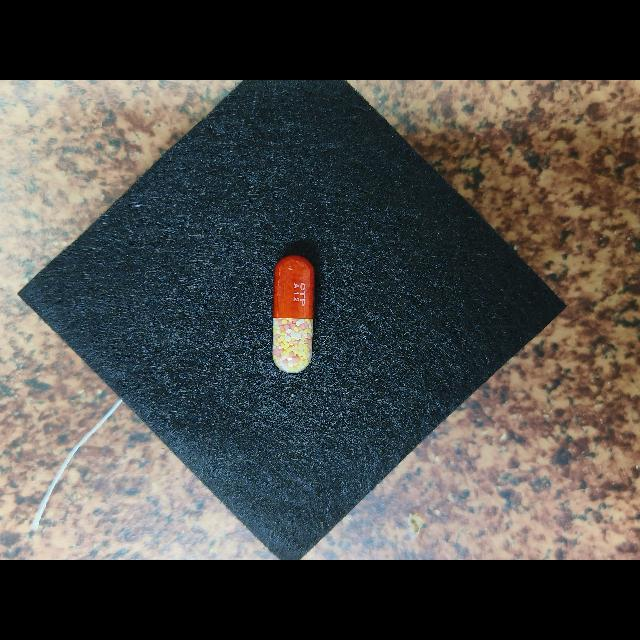Intact Capsule: (273, 255, 315, 373)
